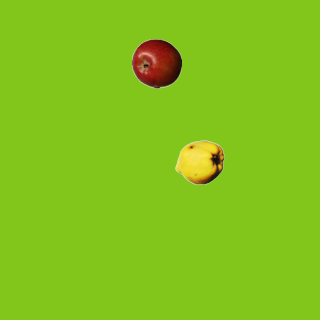Apple Braeburn: (131, 38, 181, 88)
Quince: (174, 137, 224, 187)
